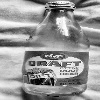beer: (26, 1, 96, 100)
